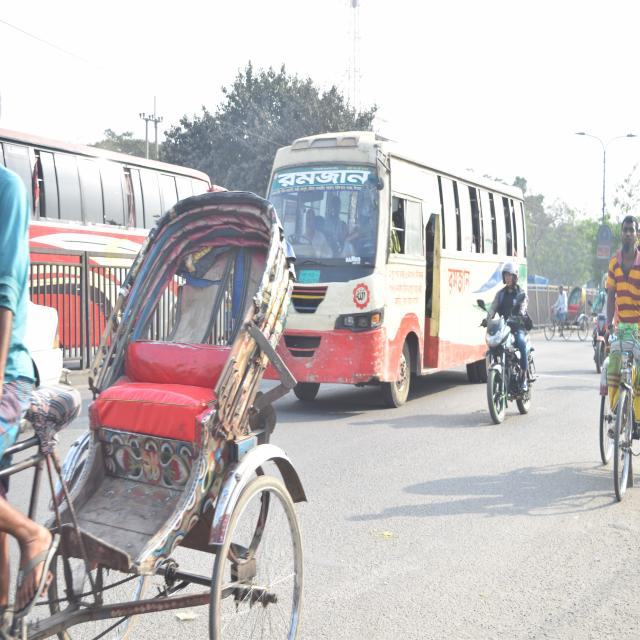bus: (270, 133, 528, 378), (2, 128, 254, 348)
motorbike: (478, 305, 536, 436), (586, 311, 612, 382)
